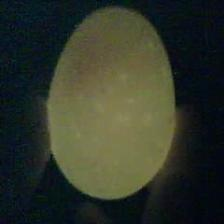infertile: (44, 6, 179, 200)
